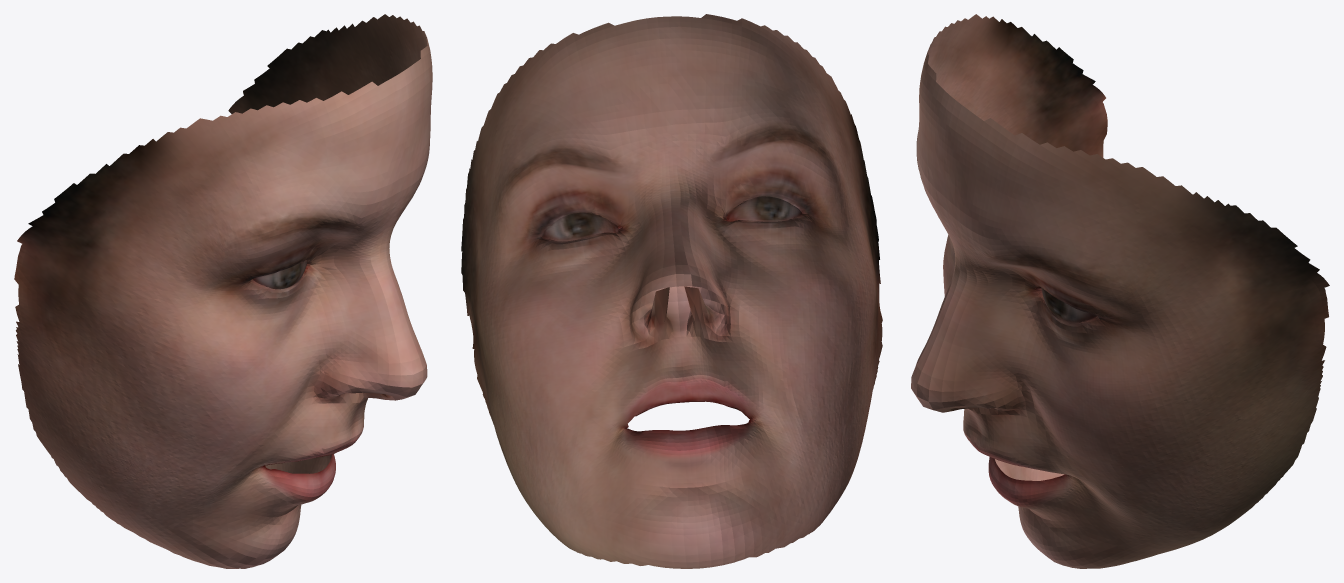
File: frame_929_mesh.obj
The picture shows the model from 3 angles, left to right: view 1: azimuth 30°, elevation 25°; view 2: azimuth 150°, elevation 25°; view 3: azimuth 270°, elevation 25°; orthographic projection. The views are drawn at different scales.
Bounding box in the file's own units: 1.36 × 1.69 × 1.25.
